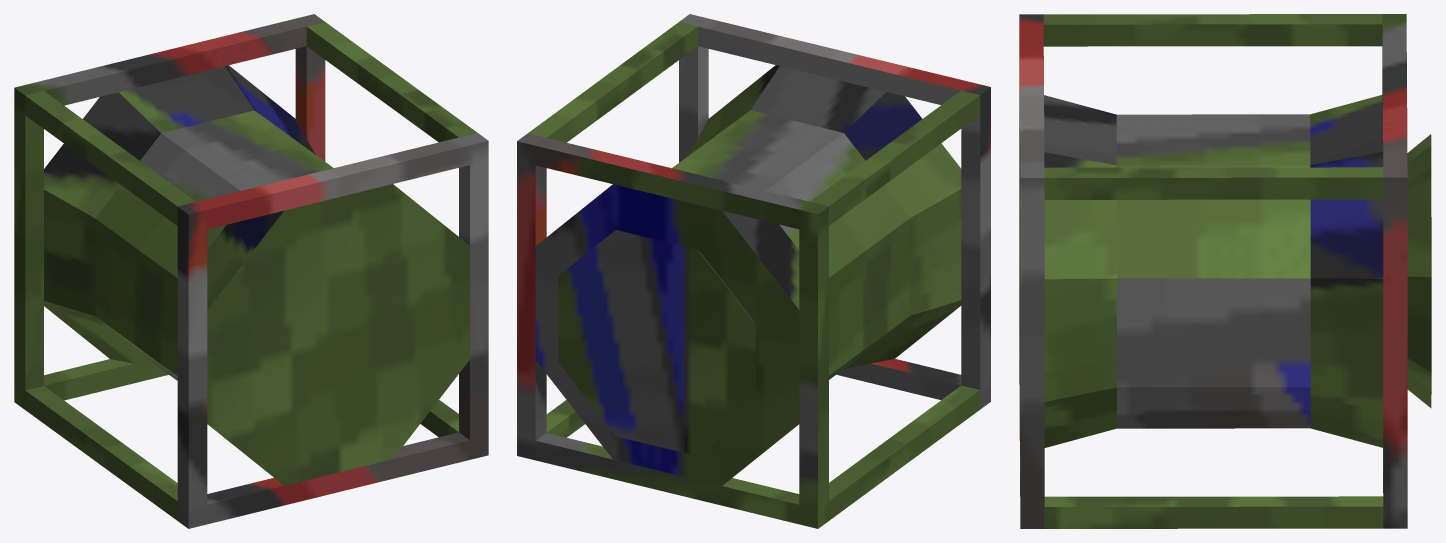
The model's file is vortex_tube.obj.
The picture shows the model from 3 angles, left to right: view 1: azimuth 30°, elevation 25°; view 2: azimuth 150°, elevation 25°; view 3: azimuth 270°, elevation 25°; orthographic projection. The views are drawn at different scales.
Parts seen in each view (by area): view 1: Cold, Side_1, Sice_2, Center, Hot_1, Cross_2, Cross_4, Cross_1, Cross_3; view 2: Hot_2, Sice_2, Hot_1, Side_1, Center, Cold, Cross_2, Cross_4, Cross_1, Cross_3; view 3: Center, Cold, Hot_1, Side_1, Sice_2, Cross_1, Cross_3, Cross_2, Hot_2.
Boxes of the visible parts, x1,y1,x2,y2 form: Cold: [207, 184, 469, 485]; Side_1: [177, 133, 488, 528]; Sice_2: [14, 14, 325, 409]; Center: [95, 110, 333, 380]; Hot_1: [44, 65, 315, 368]; Cross_2: [25, 91, 195, 225]; Cross_4: [25, 386, 177, 520]; Cross_1: [306, 22, 477, 142]; Cross_3: [420, 400, 458, 436]; Hot_2: [558, 230, 755, 455]; Sice_2: [517, 133, 828, 528]; Hot_1: [535, 184, 799, 485]; Side_1: [679, 14, 990, 409]; Center: [672, 110, 909, 379]; Cold: [688, 65, 961, 368]; Cross_2: [810, 90, 980, 225]; Cross_4: [829, 385, 980, 520]; Cross_1: [528, 22, 697, 142]; Cross_3: [546, 400, 584, 437]; Center: [1116, 114, 1310, 428]; Cold: [1019, 95, 1116, 454]; Hot_1: [1310, 94, 1383, 447]; Side_1: [1019, 14, 1044, 528]; Sice_2: [1382, 14, 1407, 528]; Cross_1: [1044, 167, 1383, 199]; Cross_3: [1044, 496, 1383, 528]; Cross_2: [1043, 14, 1382, 46]; Hot_2: [1407, 134, 1431, 407].
Bounding box in the file's own units: 0.9435 × 0.9412 × 1.
